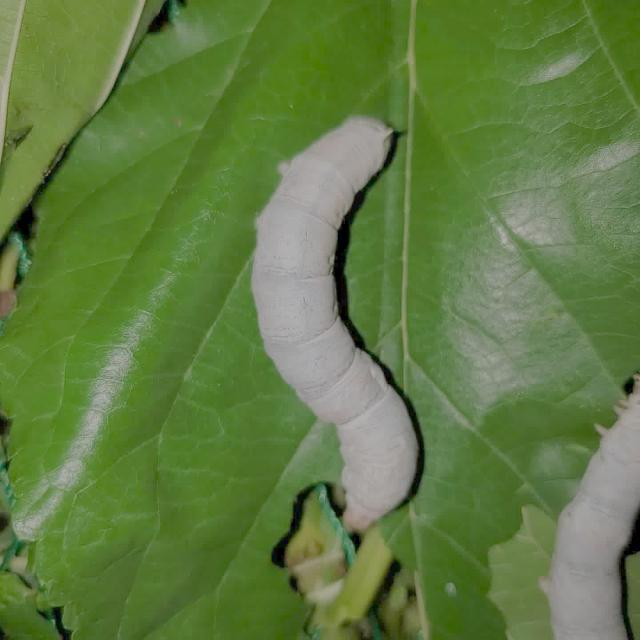Healthy: (236, 106, 441, 541)
